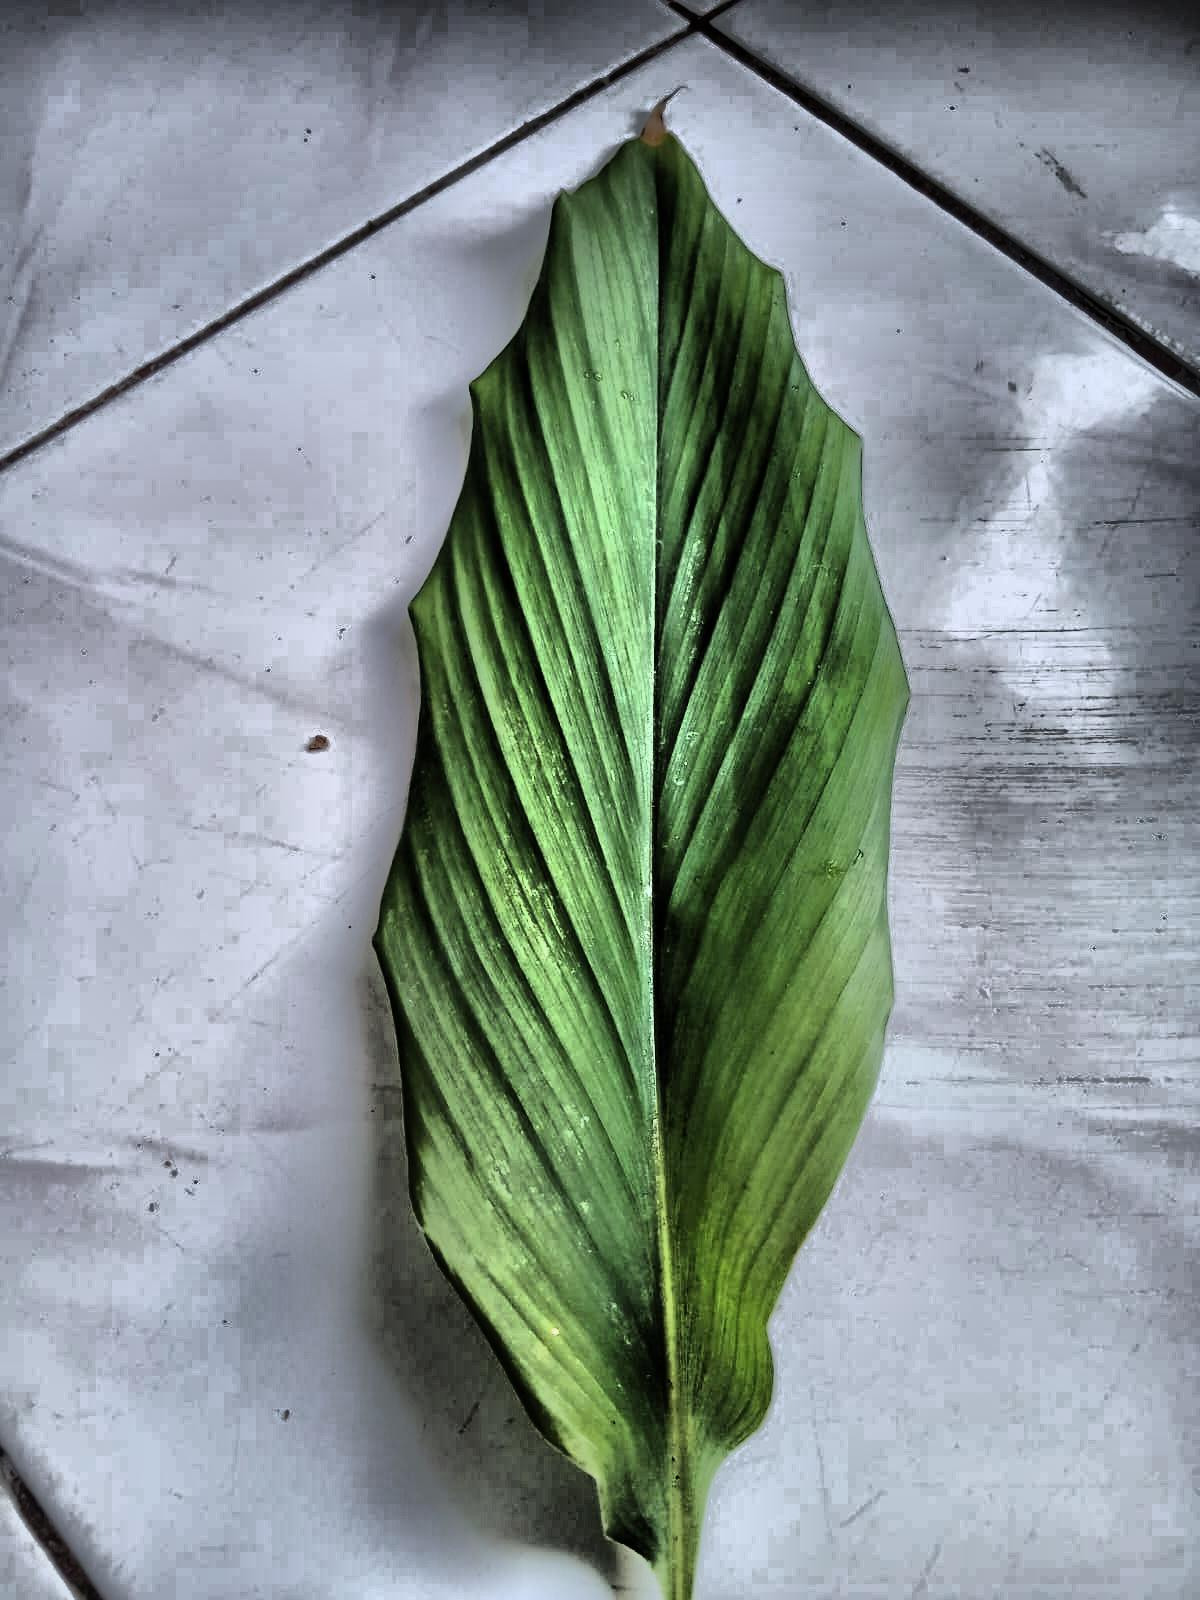daun kunyit: (376, 122, 908, 1599)
